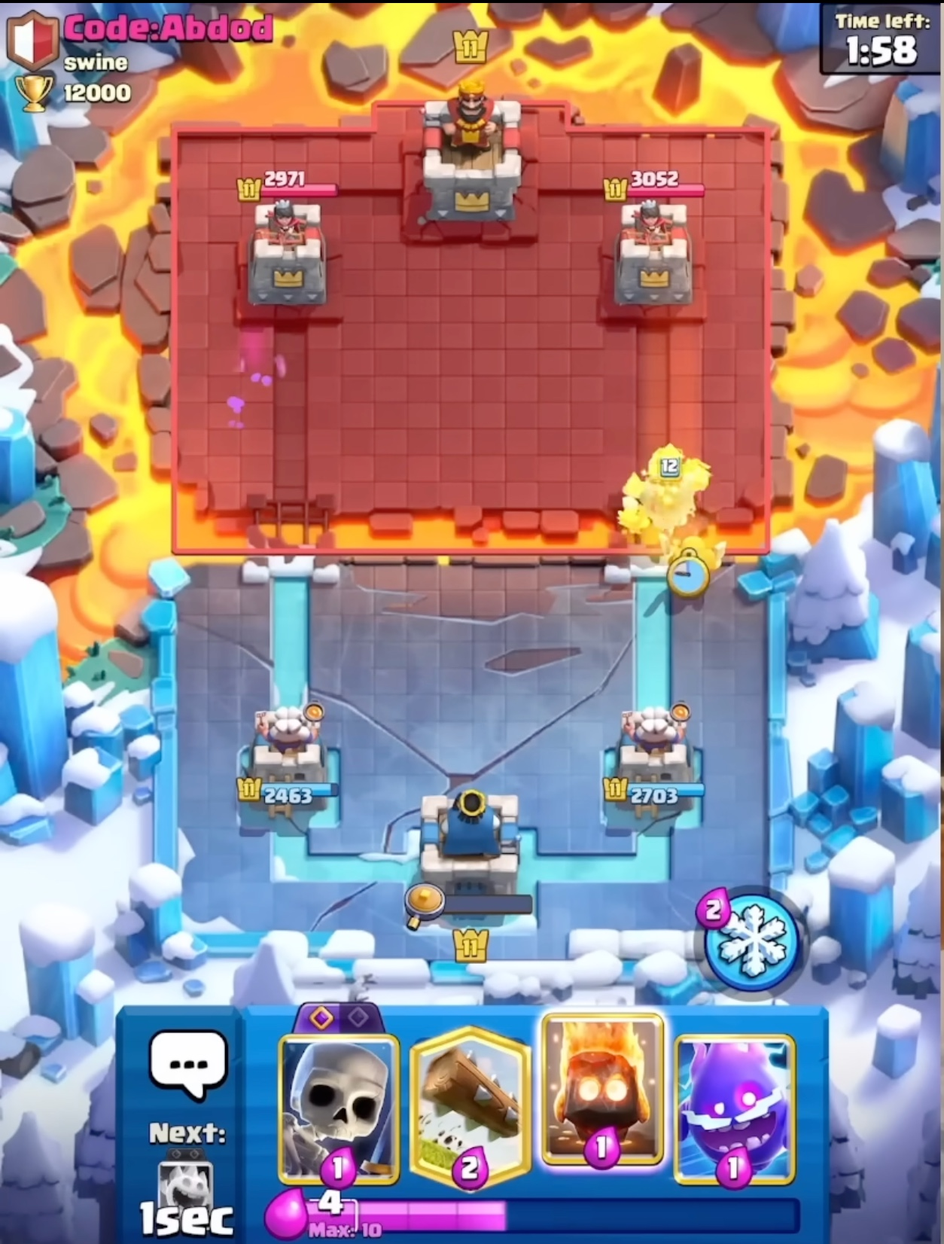hero_ice_golem: (620, 419, 719, 561)
